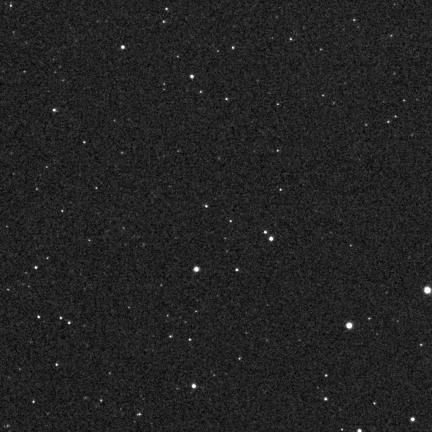blob: (194, 267, 200, 273)
